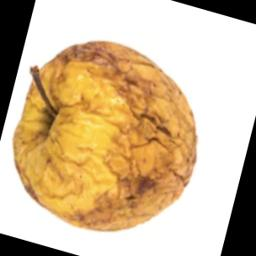Apple Rotten: (13, 2, 253, 256)
